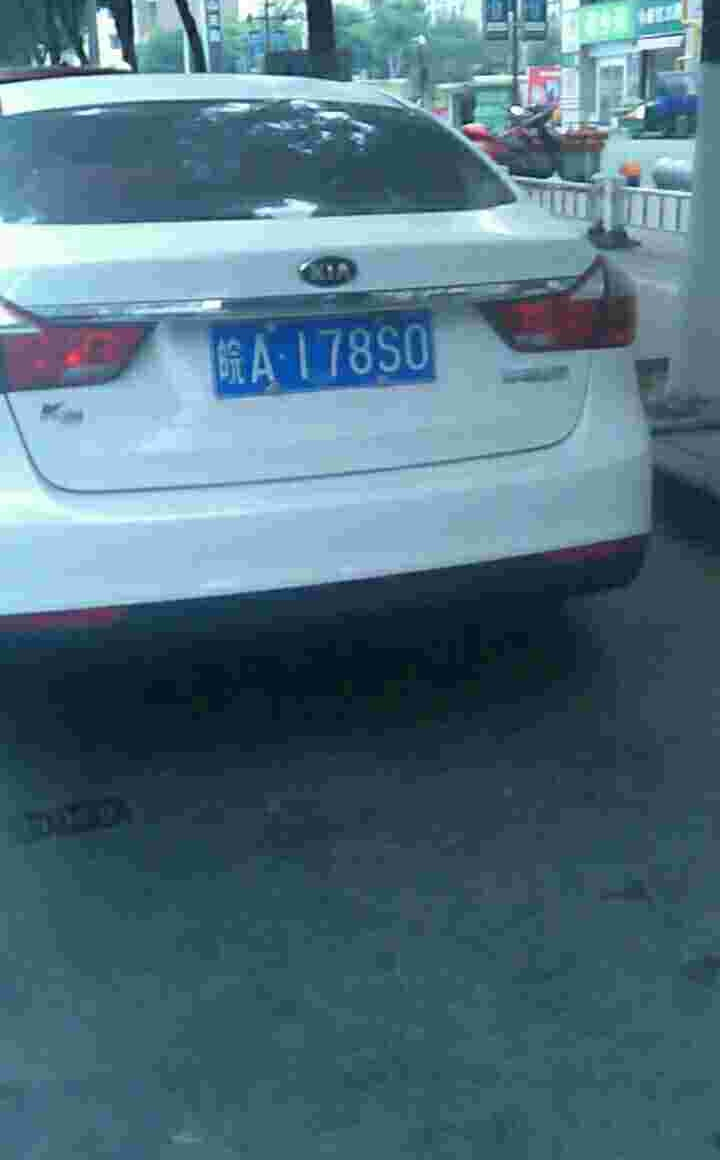license_plate: (207, 306, 436, 383)
